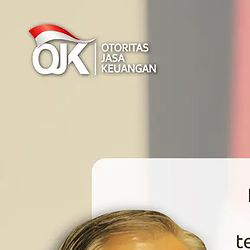ojk: (28, 23, 159, 77)
